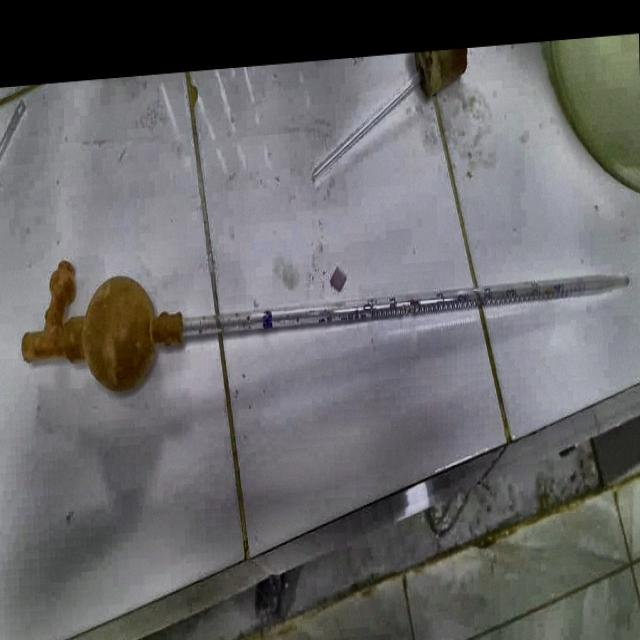Droppers: (0, 215, 639, 408)
